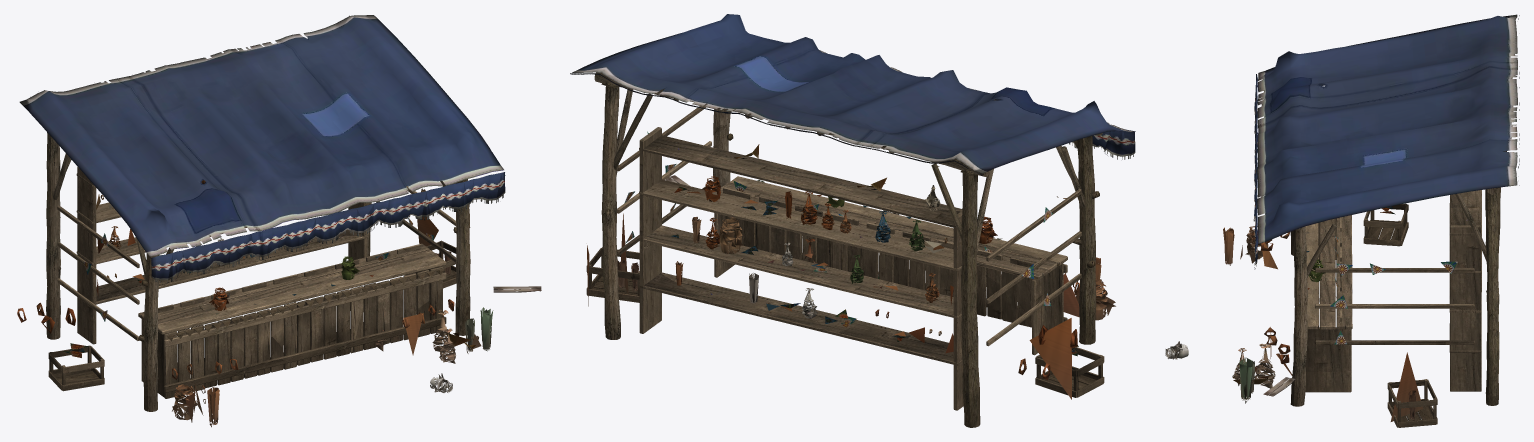
The model's file is village-kiosk-3-v3-lite.glb.
3 renders of one model, left to right at view 1: azimuth 30°, elevation 25°; view 2: azimuth 150°, elevation 25°; view 3: azimuth 270°, elevation 25°, orthographic. The views are drawn at different scales.
Parts seen in each view (by area): view 1: K3_Cloth, K3_Wood, K3_Bark, K3_Props; view 2: K3_Wood, K3_Cloth, K3_Bark, K3_Props; view 3: K3_Cloth, K3_Wood, K3_Bark, K3_Props.
Part boxes in pixels (x1,y1,x2,y2): K3_Cloth: (19, 15, 505, 283); K3_Wood: (48, 166, 456, 398); K3_Bark: (46, 132, 470, 411); K3_Props: (17, 180, 541, 427); K3_Wood: (586, 105, 1104, 410); K3_Cloth: (570, 14, 1135, 175); K3_Bark: (594, 72, 1102, 427); K3_Props: (587, 78, 1115, 399); K3_Cloth: (1253, 14, 1519, 269); K3_Wood: (1305, 190, 1481, 427); K3_Bark: (1290, 151, 1506, 406); K3_Props: (1165, 187, 1500, 421).
Size of the model in its own units: 5.55 by 2.97 by 4.
4 materials, 4 textured.
